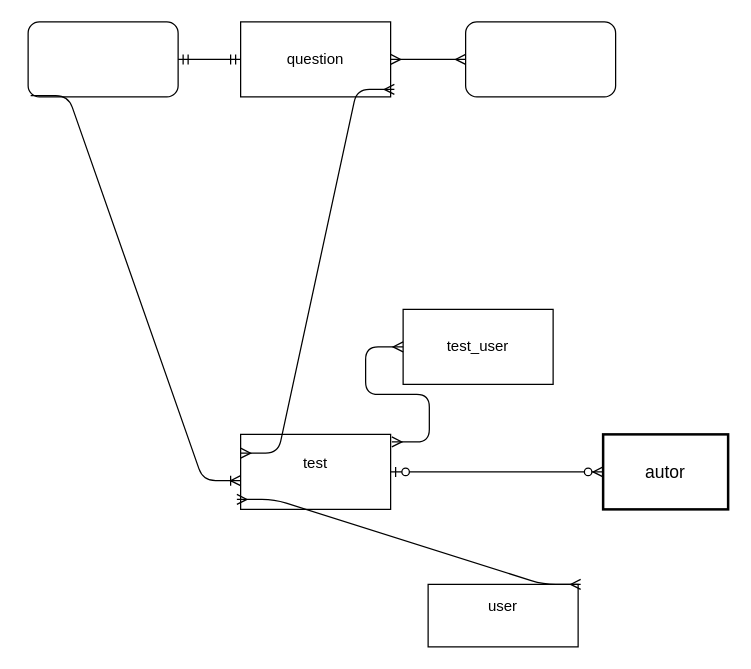
Image size: 751x669. Some labels were removed from this diagram. Each missing label, with the centre of its shape:
"answer" belongs at point (540, 59).
"category" belongs at point (102, 59).
